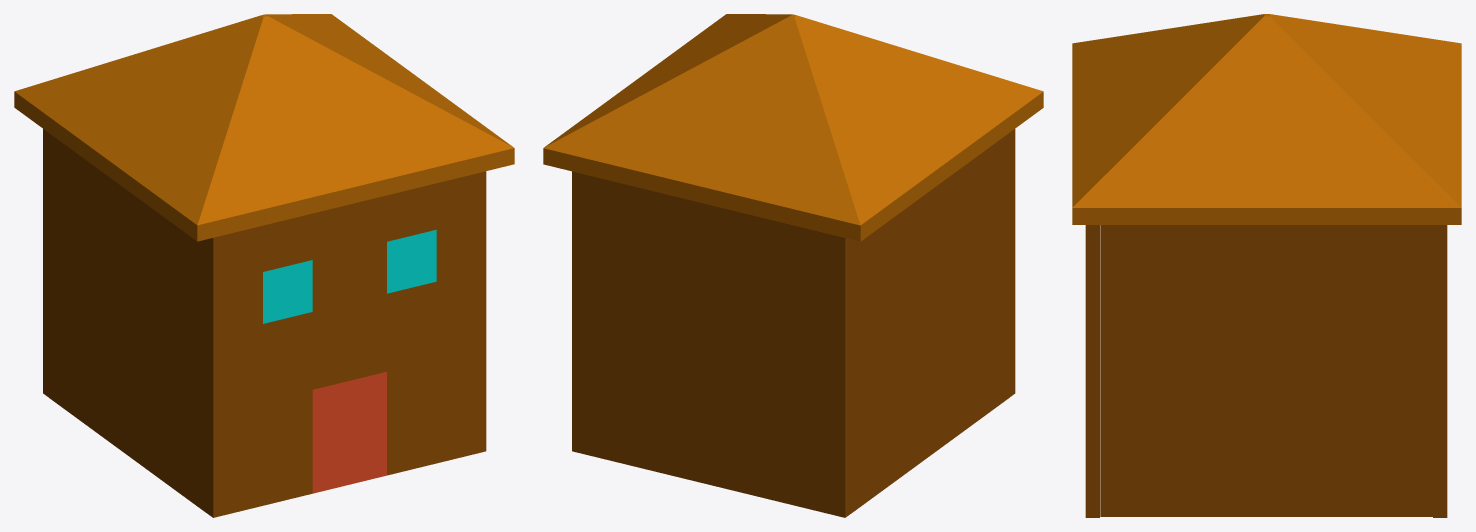
Rendered from house.fbx.
The picture shows the model from 3 angles, left to right: view 1: azimuth 30°, elevation 25°; view 2: azimuth 150°, elevation 25°; view 3: azimuth 270°, elevation 25°; orthographic projection. The views are drawn at different scales.
Parts seen in each view (by area): view 1: Cube, Cube.004, Cube.002, Cube.001; view 2: Cube.001, Cube.004, Cube.002, Cube; view 3: Cube.003, Cube.004, Cube, Cube.001.
Part boxes in pixels (x1,y1,x2,y2): Cube: (206,171,486,517); Cube.004: (14,14,514,241); Cube.002: (48,133,206,512); Cube.001: (43,129,48,396); Cube.001: (572,171,850,517); Cube.004: (543,14,1043,241); Cube.002: (851,133,1008,513); Cube: (1008,129,1015,397); Cube.003: (1100,225,1432,516); Cube.004: (1072,14,1461,224); Cube: (1085,225,1099,517); Cube.001: (1433,225,1447,517).
Size of the model in its own units: 924 by 1132 by 924.
